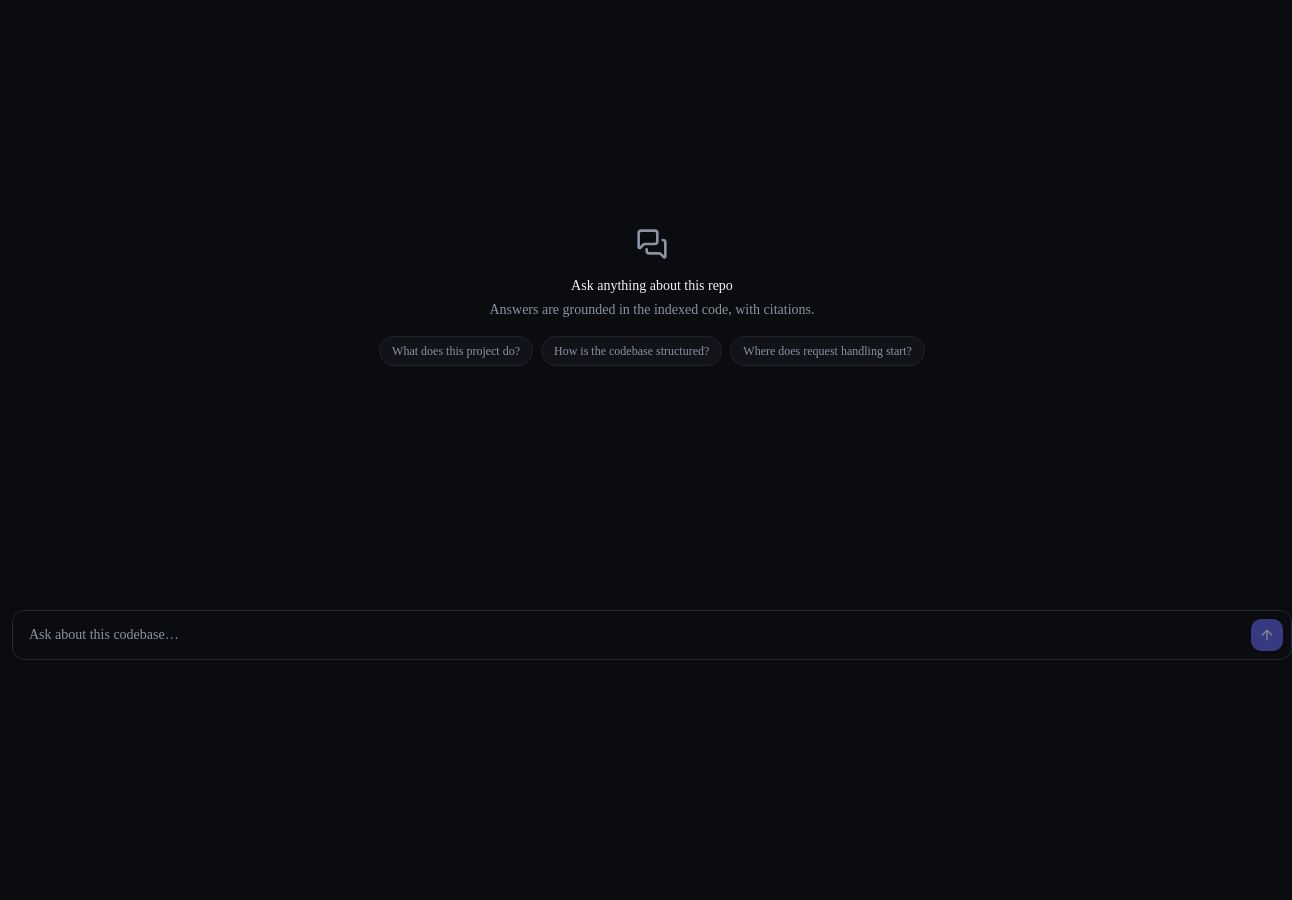
Test: ChatPanel › renders the user message, then the answer with a citation
Step 1. Type "What is this?" into the text box named "ask a question" → point(632, 635), box top-left (21, 619), bottom-right (1243, 651)
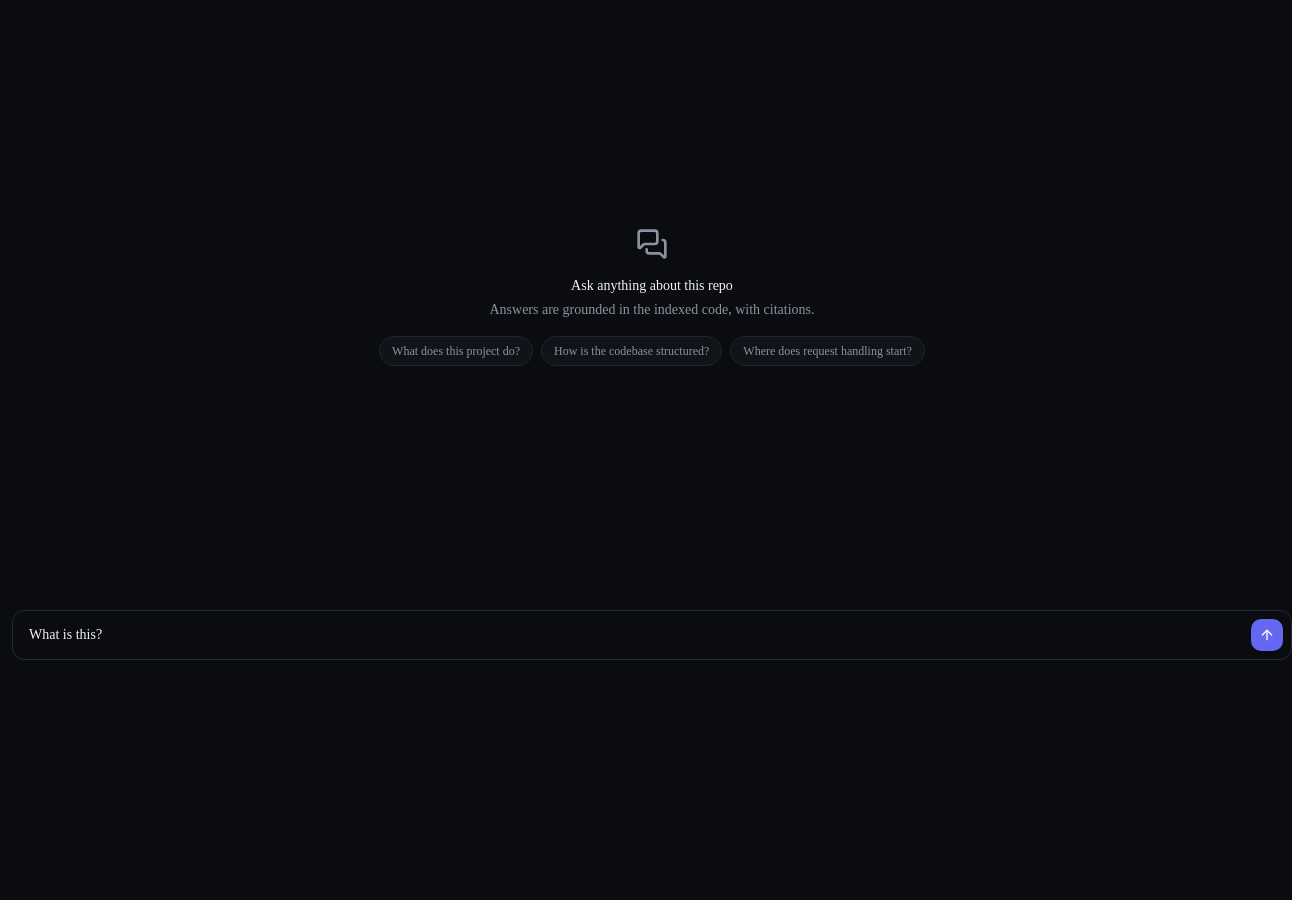
Step 2. Press Enter in the text box named "ask a question", box top-left (21, 619), bottom-right (1243, 651)
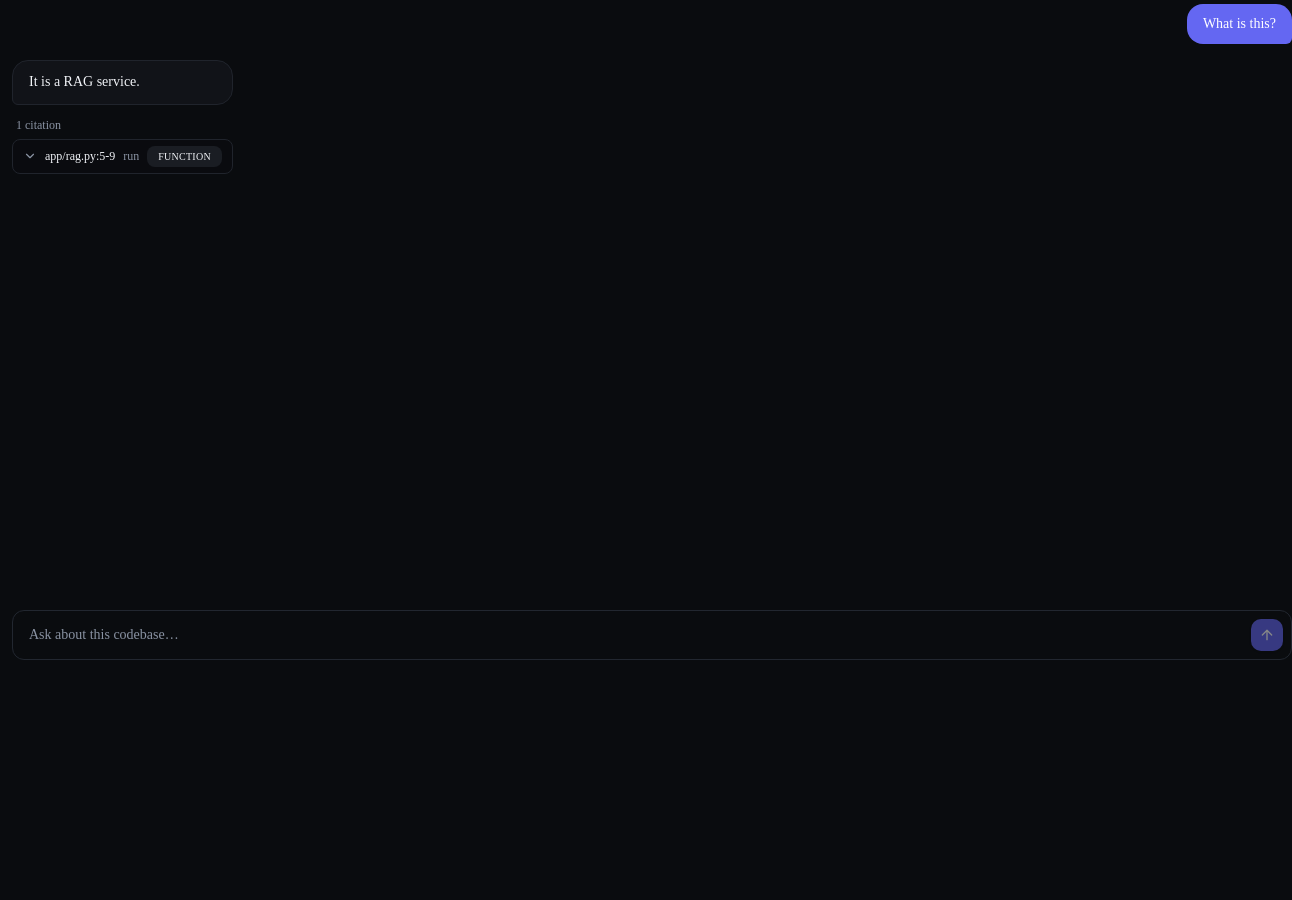
Check: the text "What is this?" is shown, box top-left (1187, 4), bottom-right (1291, 44)
Check: the text "It is a RAG service." is shown, box top-left (29, 74), bottom-right (140, 89)
Check: the text "app/rag.py:5-9" is shown, box top-left (45, 148), bottom-right (115, 164)
